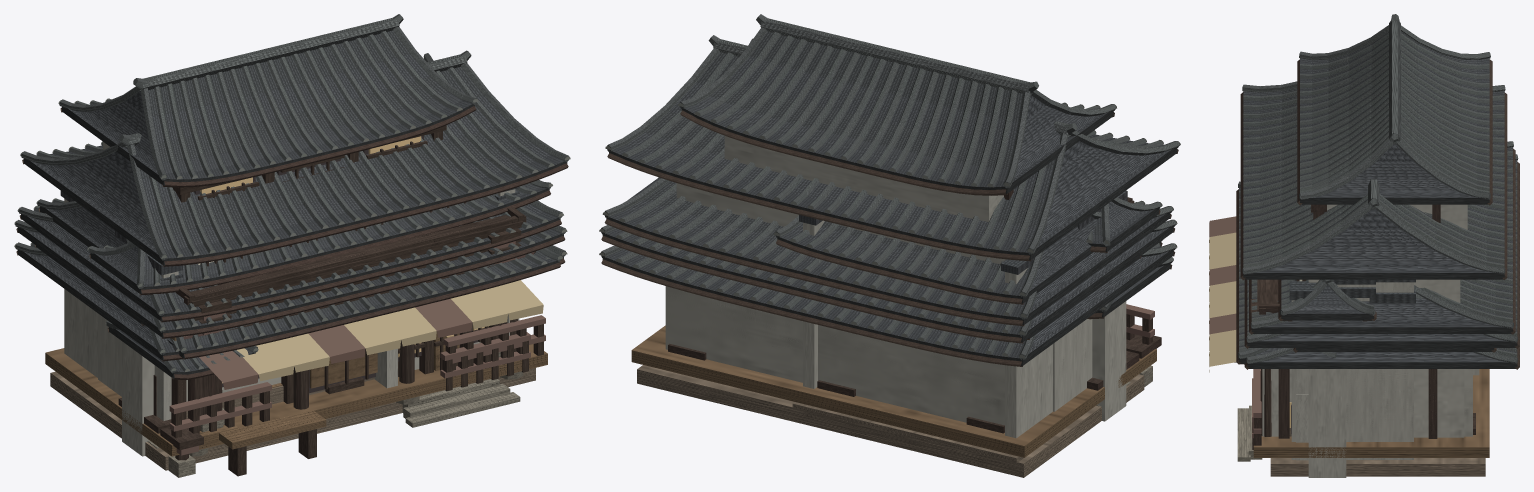
Rendered from regional_canal.glb.
The picture shows the model from 3 angles, left to right: view 1: azimuth 30°, elevation 25°; view 2: azimuth 150°, elevation 25°; view 3: azimuth 270°, elevation 25°; orthographic projection. The views are drawn at different scales.
Parts seen in each view (by area): view 1: wing, inn, hall, shop, gate, home, cottage; view 2: wing, inn, home, hall, cottage, gate; view 3: wing, inn, home, cottage, gate, shop, hall.
Boxes of the visible parts, <box> form: wing: <box>17,14,563,456</box>; inn: <box>20,50,570,470</box>; hall: <box>36,191,534,477</box>; shop: <box>35,245,543,476</box>; gate: <box>87,180,552,456</box>; home: <box>14,191,567,420</box>; cottage: <box>14,219,567,419</box>; wing: <box>602,14,1173,457</box>; inn: <box>605,35,1180,477</box>; home: <box>599,209,1177,424</box>; hall: <box>774,212,1173,463</box>; cottage: <box>599,227,1177,408</box>; gate: <box>1086,197,1162,421</box>; wing: <box>1249,14,1515,459</box>; inn: <box>1236,81,1507,476</box>; home: <box>1244,154,1519,459</box>; cottage: <box>1244,285,1519,459</box>; gate: <box>1278,279,1376,477</box>; shop: <box>1209,216,1496,372</box>; hall: <box>1237,369,1479,461</box>.
Bounding box in the file's own units: 2.12 × 1.68 × 1.48.
Materials: 1 (1 with a texture image).
